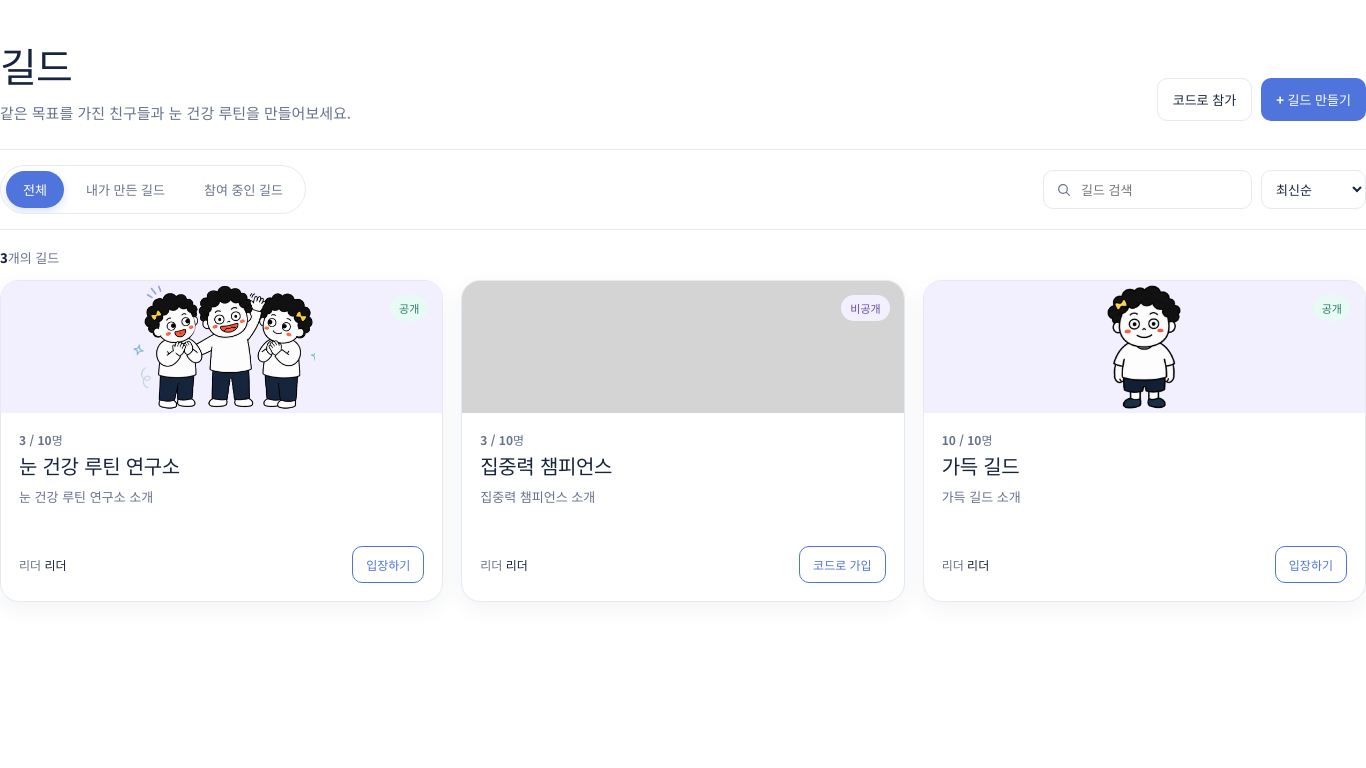
Test case: CommunityPage › 비공개 카드 가입은 코드 입력 다이얼로그로 보낸다
This screenshot has width=1366, height=768.
What coordinates should you click on to do the following:
click the button with test id "community-group-action-2"
I would click on:
 (842, 564)
Its box is [799, 546, 886, 583].
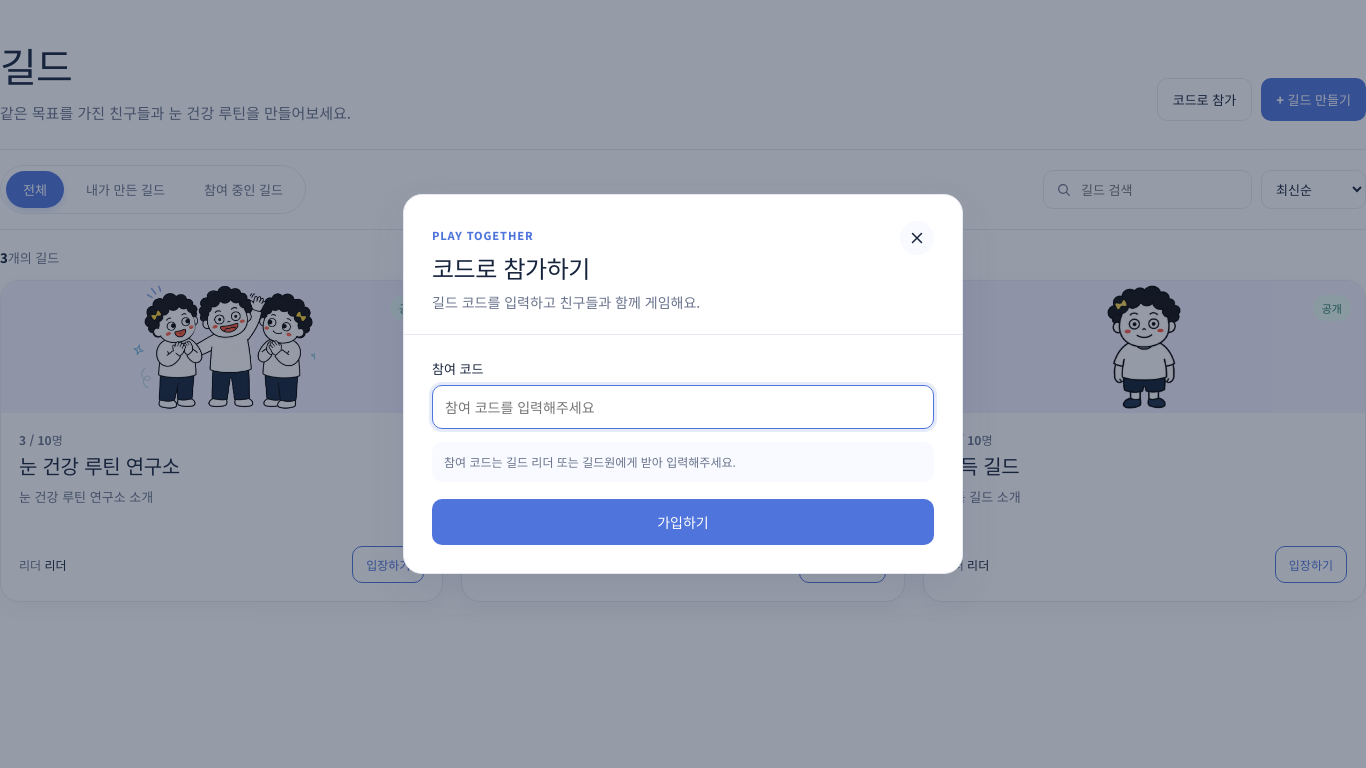
Result: the dialog shows "코드로 참가하기" at [432, 259, 590, 283]
